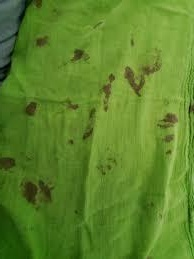blood: (124, 62, 161, 98), (22, 179, 53, 207), (101, 72, 113, 113), (158, 112, 179, 129), (71, 46, 89, 63), (24, 101, 38, 118), (1, 156, 16, 170), (36, 36, 49, 48), (81, 128, 93, 141), (89, 110, 95, 120)
